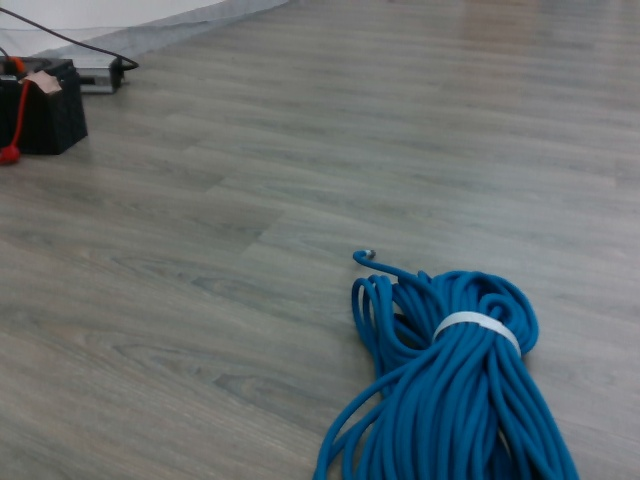rope: (323, 265, 587, 480)
